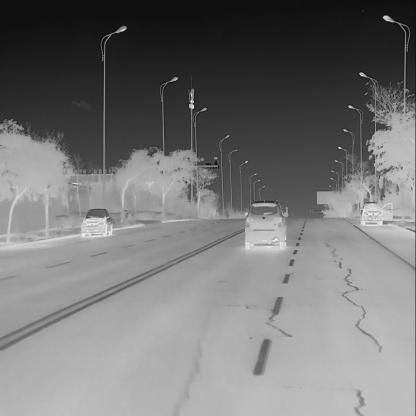car: (245, 198, 287, 249), (80, 206, 114, 237), (360, 200, 384, 226)
